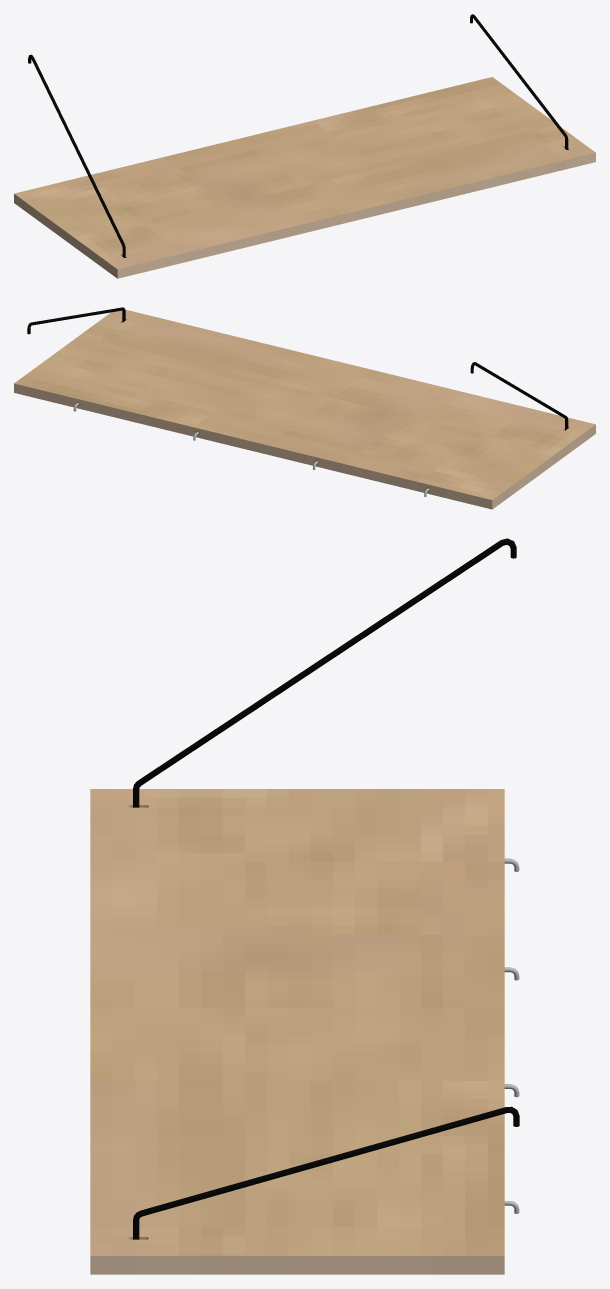
Rendered from board80x30_t2_right.glb.
The picture shows the model from 3 angles, top to bottom: view 1: azimuth 30°, elevation 25°; view 2: azimuth 150°, elevation 25°; view 3: azimuth 270°, elevation 25°; orthographic projection. The views are drawn at different scales.
Parts seen in each view (by area): view 1: Geom3D (×3), Geom3D_; view 2: Geom3D (×3), Geom3D_; view 3: Geom3D (×3), Geom3D_.
Boxes of the visible parts, x1,y1,x2,y2 form: Geom3D (×3): (14,54,595,278); Geom3D_: (470,14,568,149); Geom3D (×3): (14,307,595,509); Geom3D_: (27,307,125,334); Geom3D (×3): (90,538,516,1274); Geom3D_: (133,1106,519,1239).
Bounding box in the file's own units: 0.8 × 0.2296 × 0.3108.
4 materials, 3 textured.
